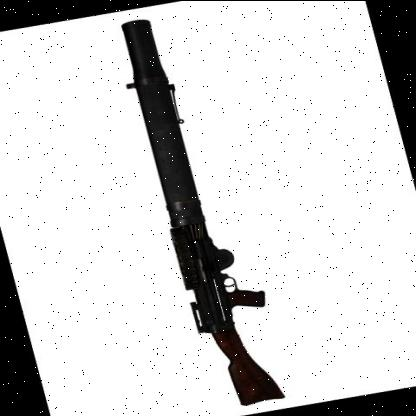rifle: (111, 1, 300, 414)
